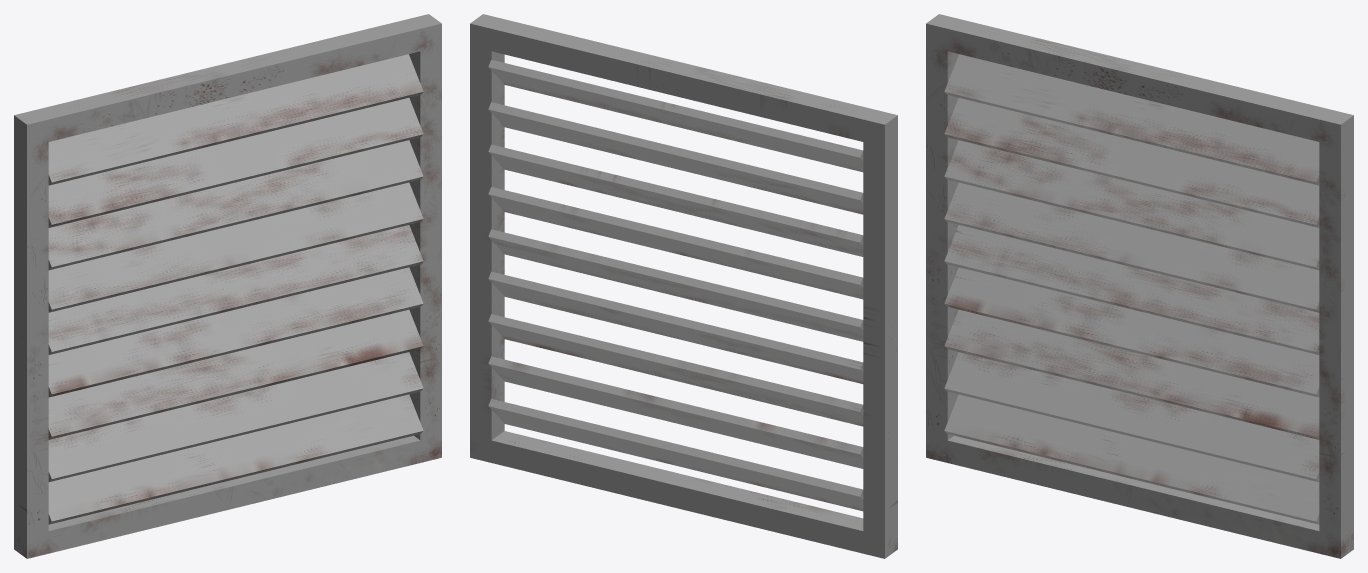
The model's file is vent.glb.
The picture shows the model from 3 angles, left to right: view 1: azimuth 30°, elevation 25°; view 2: azimuth 150°, elevation 25°; view 3: azimuth 330°, elevation 25°; orthographic projection.
Parts seen in each view (by area): view 1: Object_6; view 2: Object_6; view 3: Object_6.
Boxes of the visible parts, x1=… form: Object_6: x1=14, y1=14, x2=441, y2=558; Object_6: x1=470, y1=14, x2=897, y2=558; Object_6: x1=926, y1=14, x2=1353, y2=558.
Bounding box in the file's own units: 100 × 100 × 8.16.
Materials: 1 (1 with a texture image).
